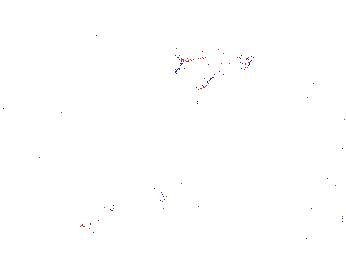glassfish: (80, 181, 189, 231), (306, 66, 346, 106)
redtail glassfish: (170, 49, 254, 82)
